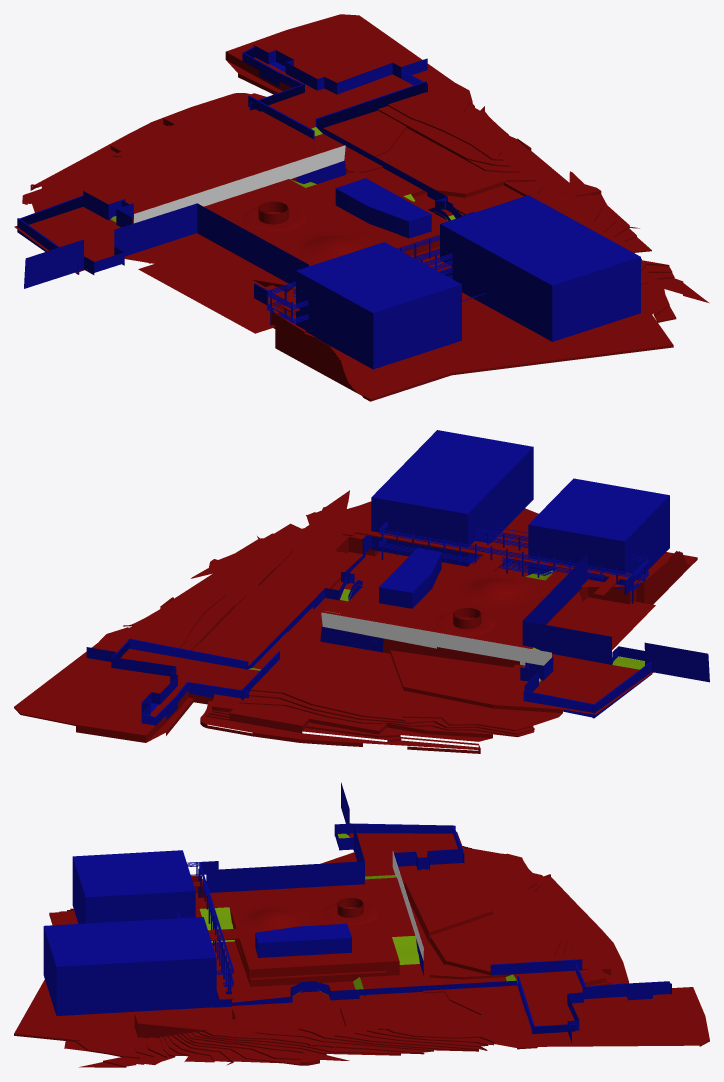
The model's file is campus_collider.fbx.
3 renders of one model, top to bottom at view 1: azimuth 30°, elevation 25°; view 2: azimuth 150°, elevation 25°; view 3: azimuth 270°, elevation 25°, orthographic. The views are drawn at different scales.
Parts seen in each view (by area): view 1: floor, walls, Line048, Object078; view 2: floor, walls, Line048, Object078, stairs; view 3: floor, walls, stairs, Line048.
Boxes of the visible parts, x1,y1,x2,y2 form: floor: (14, 14, 709, 401); walls: (17, 45, 640, 369); Line048: (133, 145, 345, 223); Object078: (296, 160, 346, 183); floor: (14, 490, 697, 753); walls: (86, 430, 709, 725); Line048: (321, 612, 551, 665); Object078: (320, 626, 383, 652); stairs: (248, 570, 644, 681); floor: (14, 832, 709, 1067); walls: (43, 782, 671, 1043); stairs: (199, 833, 517, 996); Line048: (392, 851, 423, 960).
Bounding box in the file's own units: 367 × 455 × 47.52.
